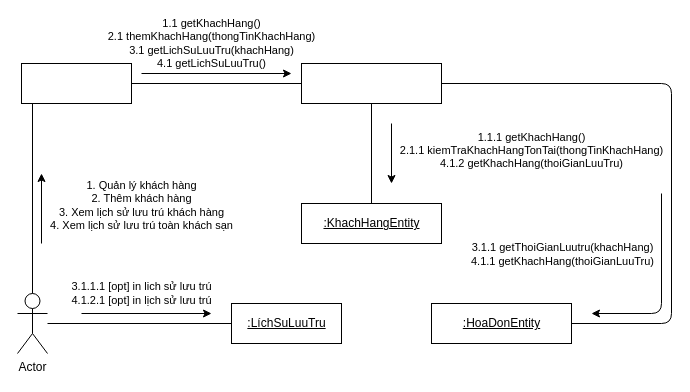
Some shapes in this 690 by 392 pixel diagram are drawn without their labels. Here are the shapes that lost their labels. From the top down, the box of each, then its label:
(20, 62, 132, 104): :QuanLyKhachHang
(300, 62, 442, 104): :KhachHangController
